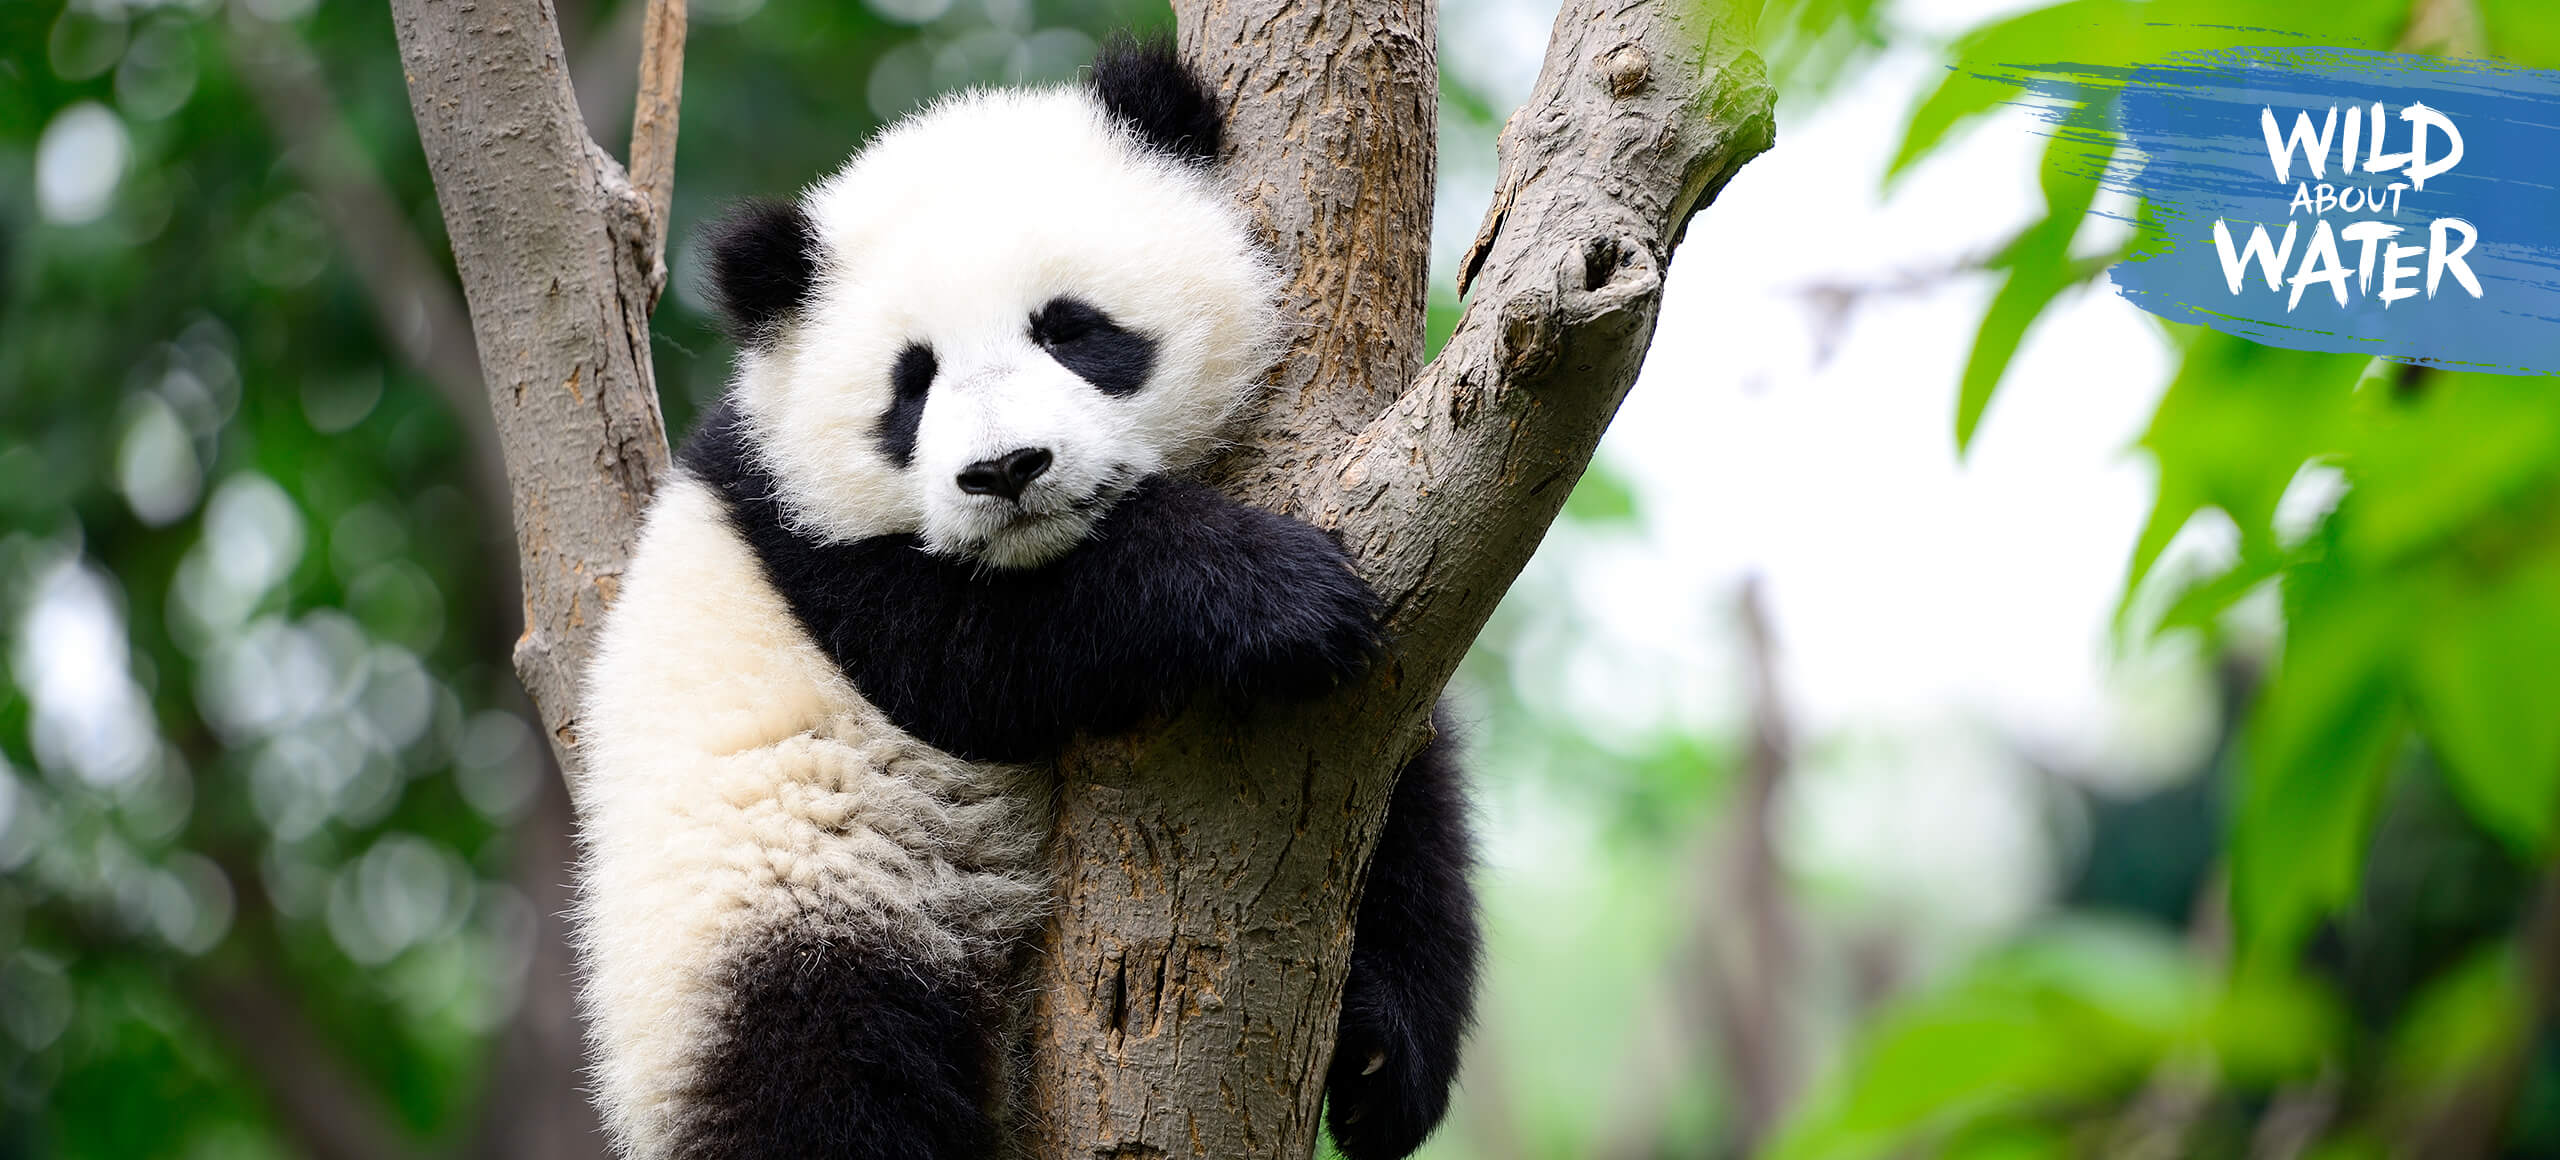panda: (415, 47, 1553, 1160)
